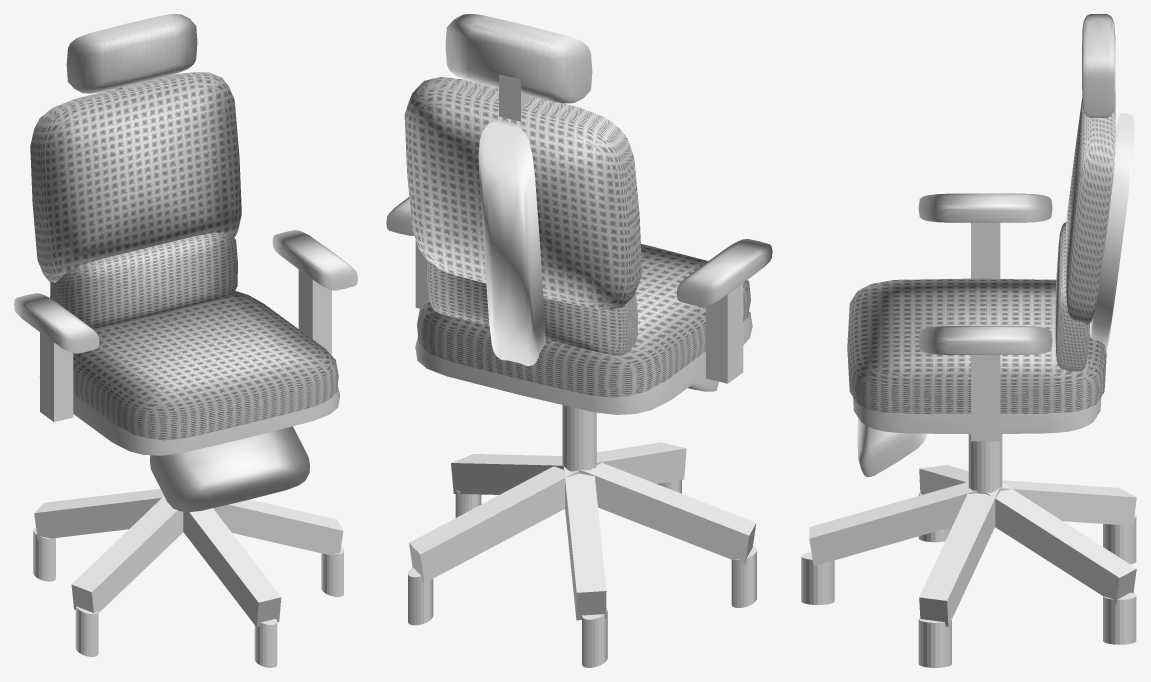
3 renders of one model, left to right at view 1: azimuth 30°, elevation 25°; view 2: azimuth 150°, elevation 25°; view 3: azimuth 270°, elevation 25°, orthographic. The views are drawn at different scales.
Visible parts, largest first — view 1: 3 backrest, 1 seat, 4 lumbar_support, 12 footrest_pad, 6 headrest, 19 spoke_5, 15 spoke_1, 2 seat_frame, 16 spoke_2, 18 spoke_4, 8 left_armrest_pad, 9 right_armrest_pad (+6 smaller); view 2: 3 backrest, 1 seat, 5 backrest_spine, 6 headrest, 17 spoke_3, 19 spoke_5, 4 lumbar_support, 2 seat_frame, 18 spoke_4, 8 left_armrest_pad, 16 spoke_2, 10 left_armrest_post (+8 smaller); view 3: 1 seat, 3 backrest, 17 spoke_3, 15 spoke_1, 16 spoke_2, 2 seat_frame, 5 backrest_spine, 18 spoke_4, 8 left_armrest_pad, 9 right_armrest_pad, 6 headrest, 11 right_armrest_post (+9 smaller).
Part boxes in pixels (x1=…): 3 backrest: x1=30, y1=72, x2=241, y2=282; 1 seat: x1=73, y1=291, x2=338, y2=440; 4 lumbar_support: x1=50, y1=232, x2=237, y2=330; 12 footrest_pad: x1=150, y1=426, x2=309, y2=512; 6 headrest: x1=66, y1=14, x2=197, y2=93; 19 spoke_5: x1=71, y1=496, x2=183, y2=612; 15 spoke_1: x1=183, y1=508, x2=281, y2=627; 2 seat_frame: x1=39, y1=376, x2=340, y2=455; 16 spoke_2: x1=213, y1=499, x2=343, y2=555; 18 spoke_4: x1=34, y1=488, x2=163, y2=539; 8 left_armrest_pad: x1=14, y1=293, x2=99, y2=353; 9 right_armrest_pad: x1=272, y1=230, x2=357, y2=290; 3 backrest: x1=404, y1=77, x2=642, y2=310; 1 seat: x1=417, y1=244, x2=750, y2=397; 5 backrest_spine: x1=478, y1=121, x2=545, y2=366; 6 headrest: x1=445, y1=14, x2=592, y2=103; 17 spoke_3: x1=409, y1=462, x2=579, y2=582; 19 spoke_5: x1=579, y1=461, x2=756, y2=564; 4 lumbar_support: x1=426, y1=260, x2=637, y2=356; 2 seat_frame: x1=415, y1=312, x2=752, y2=414; 18 spoke_4: x1=564, y1=466, x2=606, y2=620; 8 left_armrest_pad: x1=676, y1=239, x2=772, y2=306; 16 spoke_2: x1=451, y1=454, x2=564, y2=494; 10 left_armrest_post: x1=706, y1=283, x2=743, y2=383; 1 seat: x1=847, y1=278, x2=1106, y2=413; 3 backrest: x1=1065, y1=91, x2=1115, y2=324; 17 spoke_3: x1=985, y1=483, x2=1136, y2=604; 15 spoke_1: x1=809, y1=481, x2=977, y2=565; 16 spoke_2: x1=919, y1=487, x2=1000, y2=626; 2 seat_frame: x1=853, y1=397, x2=1101, y2=433; 5 backrest_spine: x1=1089, y1=113, x2=1134, y2=353; 18 spoke_4: x1=1000, y1=480, x2=1136, y2=525; 8 left_armrest_pad: x1=918, y1=193, x2=1052, y2=222; 9 right_armrest_pad: x1=918, y1=326, x2=1052, y2=354; 6 headrest: x1=1082, y1=14, x2=1115, y2=117; 11 right_armrest_post: x1=971, y1=355, x2=1000, y2=441.
Bounding box in the file's own units: 0.6731 × 1.19 × 0.6413.
5 materials, 2 textured.
